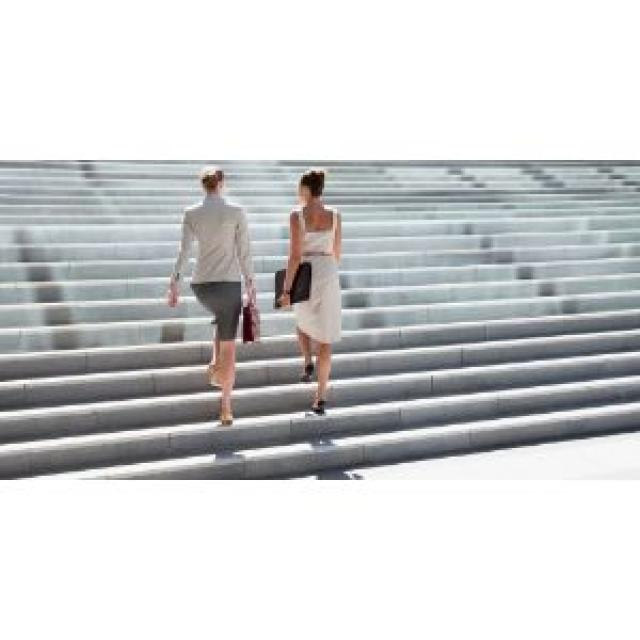nonfall: (172, 160, 271, 440), (286, 160, 366, 420)
